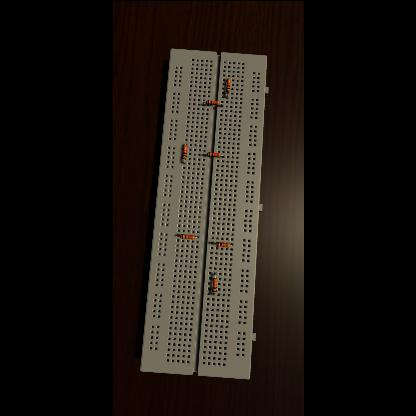breadboard: (140, 47, 268, 378)
resistor: (211, 276, 216, 292), (206, 99, 219, 105), (180, 233, 194, 238), (215, 242, 229, 247), (226, 78, 231, 92), (182, 144, 186, 158), (206, 152, 219, 156)
wire: (202, 101, 206, 105), (226, 91, 228, 97), (176, 233, 180, 235), (219, 102, 221, 106), (211, 241, 214, 243), (184, 142, 186, 144), (194, 235, 198, 236), (204, 153, 206, 155), (212, 292, 214, 294), (220, 154, 222, 156), (230, 243, 232, 245), (184, 158, 184, 162)
